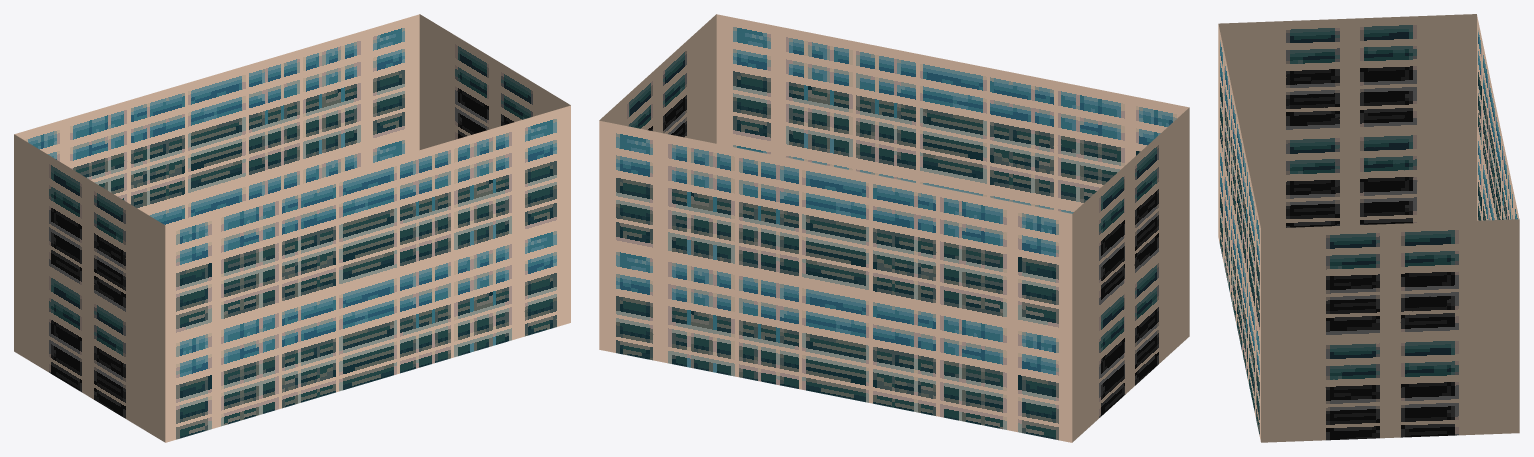
The picture shows the model from 3 angles, left to right: view 1: azimuth 30°, elevation 25°; view 2: azimuth 150°, elevation 25°; view 3: azimuth 270°, elevation 25°; orthographic projection. The views are drawn at different scales.
Visible parts, largest first — view 1: obj-95; view 2: obj-95; view 3: obj-95.
Part boxes in pixels (bbox=[...]): obj-95: bbox=[14, 14, 570, 442]; obj-95: bbox=[599, 14, 1189, 442]; obj-95: bbox=[1218, 14, 1519, 442].
Size of the model in its own units: 5.53 by 2.57 by 3.27.
1 material, 1 textured.
